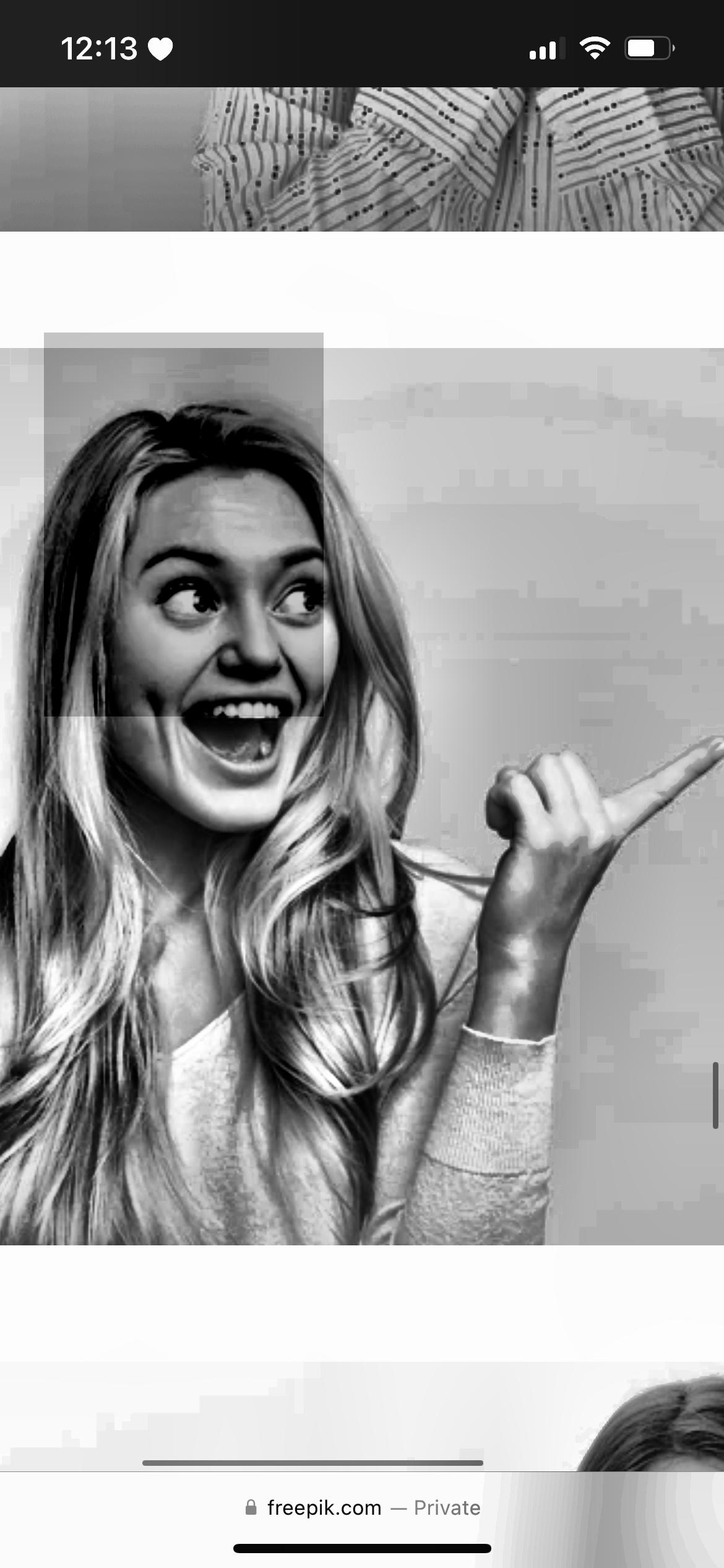surprised: (54, 411, 400, 886)
